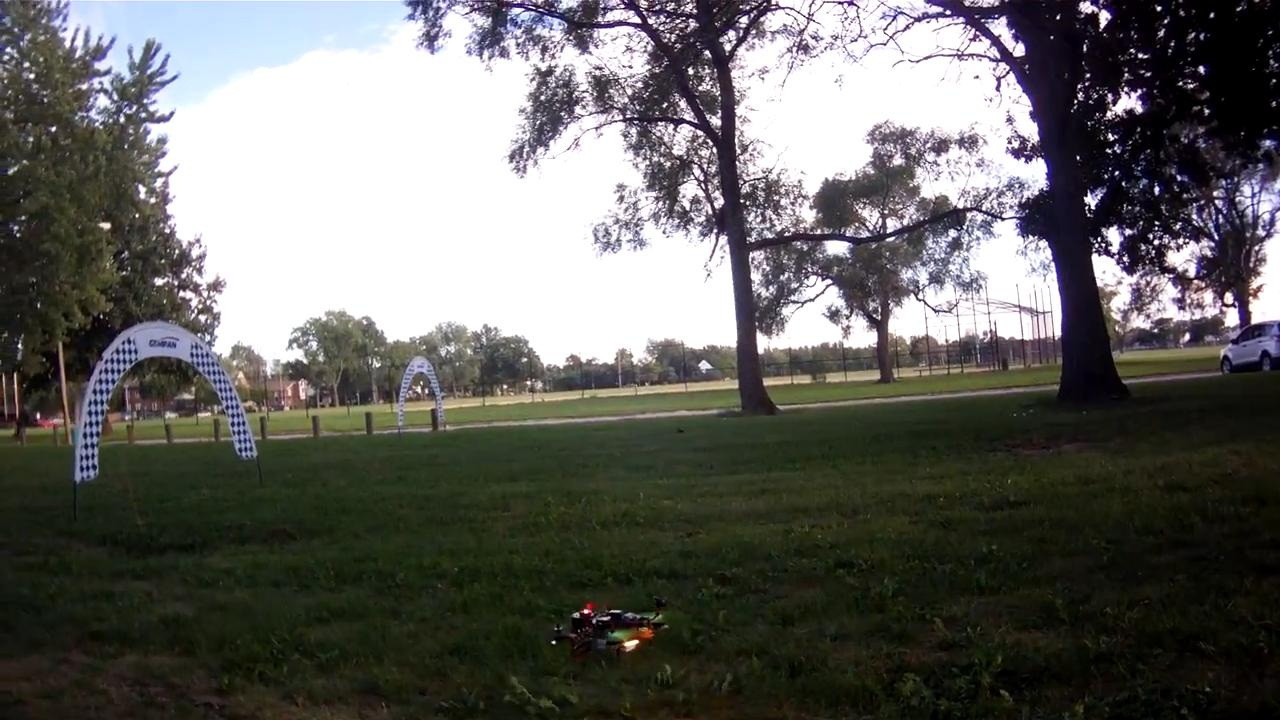gate: (68, 318, 255, 482), (395, 355, 444, 437)
